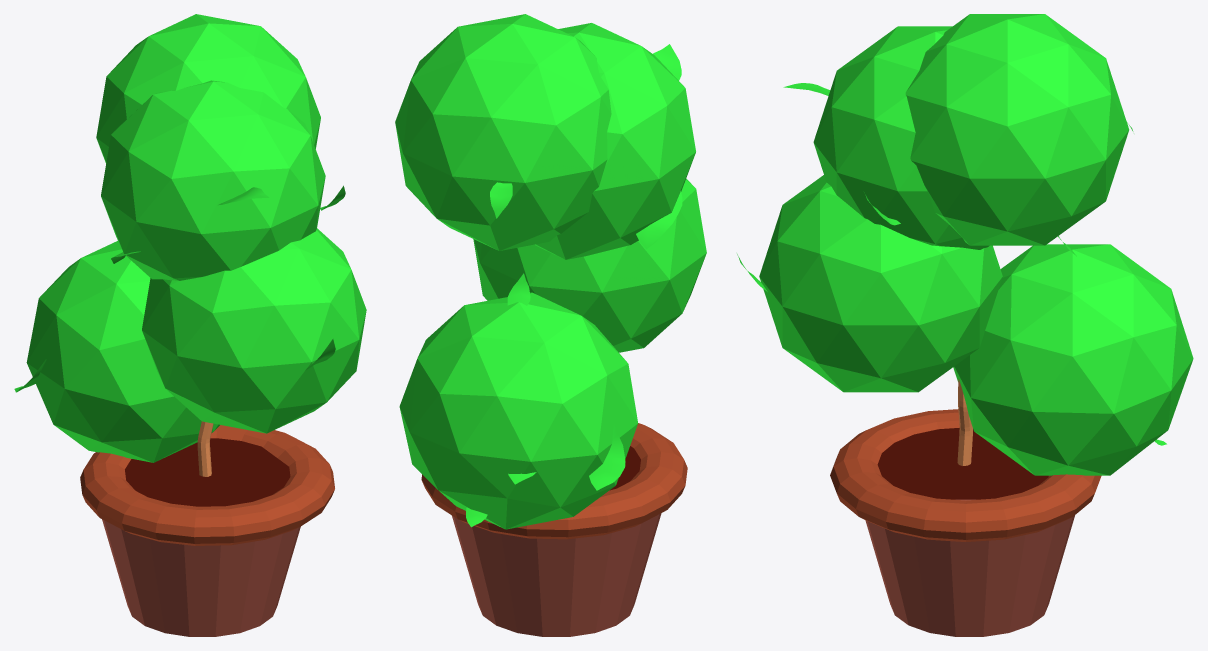
Rendered from plant12.gltf.
3 views of the same model, side by side, from view 1: azimuth 30°, elevation 25°; view 2: azimuth 150°, elevation 25°; view 3: azimuth 270°, elevation 25° (orthographic). The views are drawn at different scales.
Parts seen in each view (by area): view 1: Icosphere.003, Icosphere.002, Icosphere.001, Cylinder, Torus, Icosphere, Plane, Cube.001; view 2: Icosphere.001, Icosphere, Icosphere.003, Cylinder, Icosphere.002, Torus, BezierCurve.007, BezierCurve.021, BezierCurve.002, Plane, BezierCurve.001, BezierCurve.006; view 3: Icosphere.001, Icosphere, Icosphere.002, Icosphere.003, Cylinder, Torus, Plane, Cube.001.
Part boxes in pixels (x1,y1,x2,y2): Icosphere.003: (101, 80, 325, 280); Icosphere.002: (142, 228, 366, 433); Icosphere.001: (26, 241, 219, 462); Cylinder: (102, 519, 300, 636); Torus: (80, 425, 334, 545); Icosphere: (96, 14, 320, 163); Plane: (125, 438, 290, 506); Cube.001: (197, 421, 213, 476); Icosphere.001: (399, 292, 638, 529); Icosphere: (395, 14, 611, 250); Icosphere.003: (534, 23, 695, 259); Cylinder: (452, 513, 661, 636); Icosphere.002: (473, 178, 706, 352); Torus: (421, 423, 687, 539); BezierCurve.007: (589, 423, 625, 490); BezierCurve.021: (636, 191, 682, 249); BezierCurve.002: (490, 182, 512, 218); Plane: (610, 446, 640, 490); BezierCurve.001: (653, 44, 681, 80); BezierCurve.006: (507, 273, 530, 305); Icosphere.001: (953, 244, 1193, 475); Icosphere: (905, 14, 1129, 245); Icosphere.002: (759, 175, 1002, 392); Icosphere.003: (813, 26, 989, 249); Cylinder: (865, 499, 1074, 636); Torus: (830, 409, 1101, 541); Plane: (877, 428, 1048, 499); Cube.001: (957, 379, 972, 465).
Bounding box in the file's own units: 2.44 × 5.41 × 3.76.
